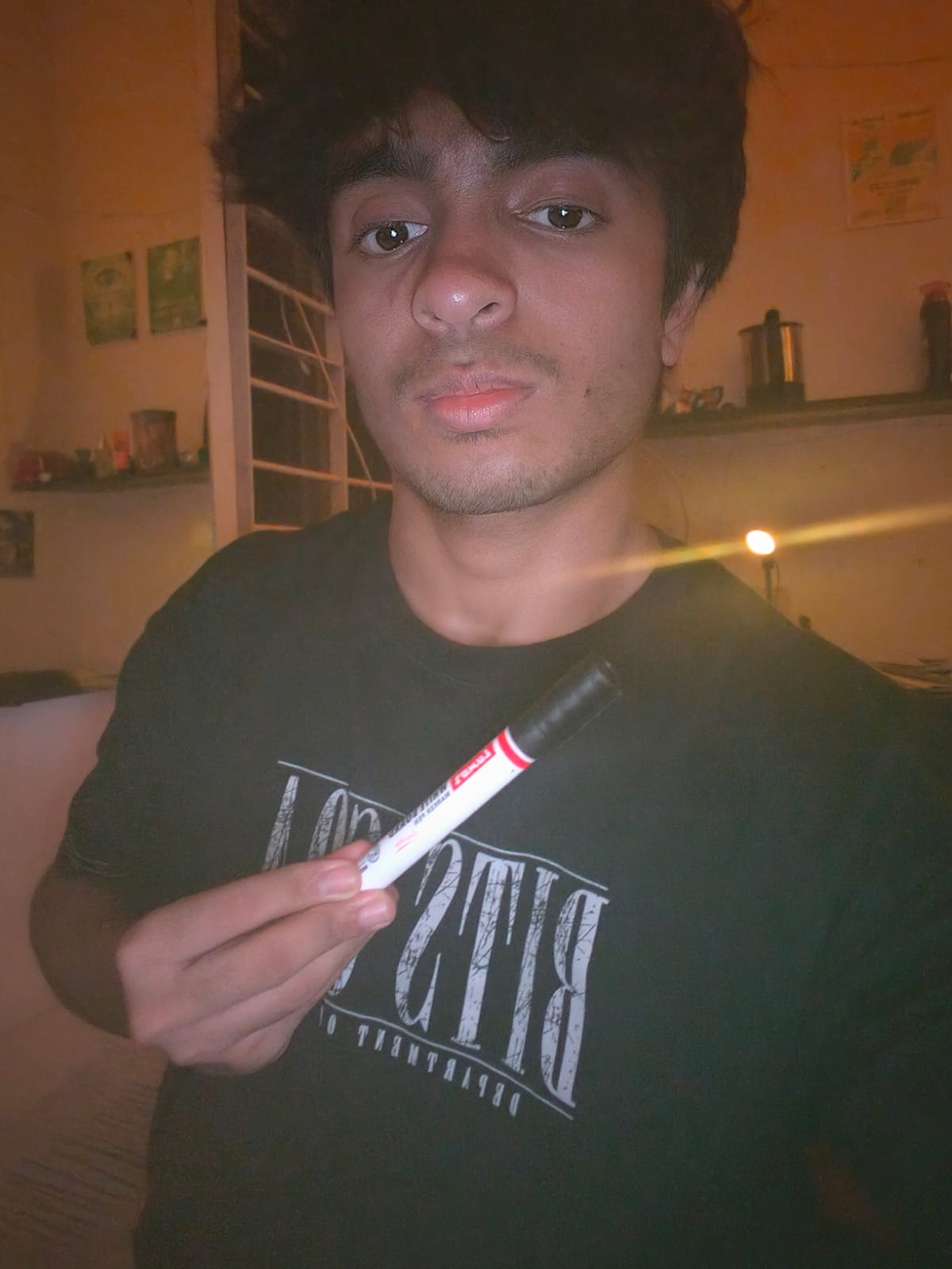case: (345, 650, 627, 905)
